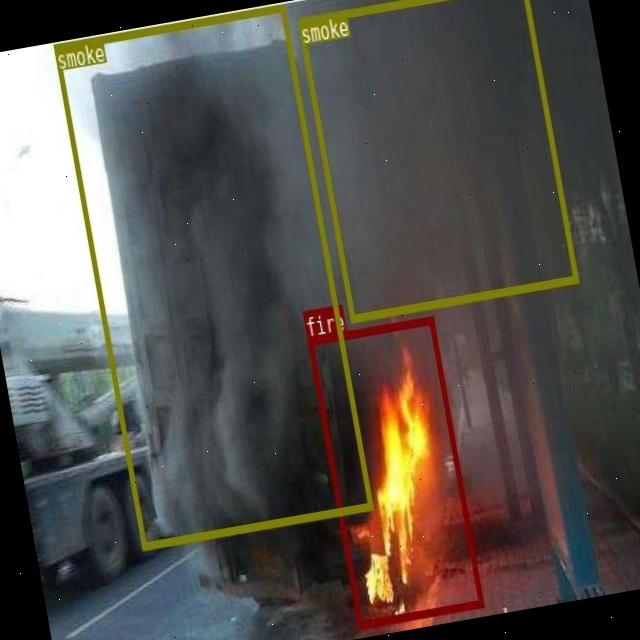fire: (307, 314, 483, 628)
smoke: (51, 2, 372, 550), (296, 0, 578, 320)
